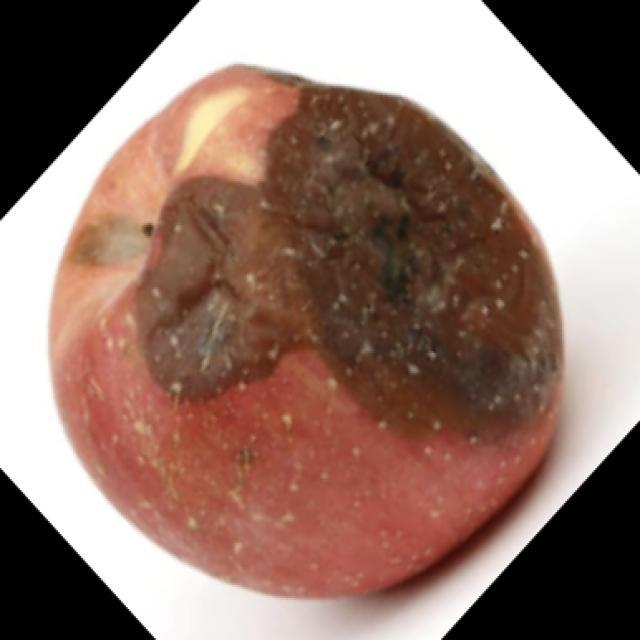Rotten: (70, 78, 553, 582)
